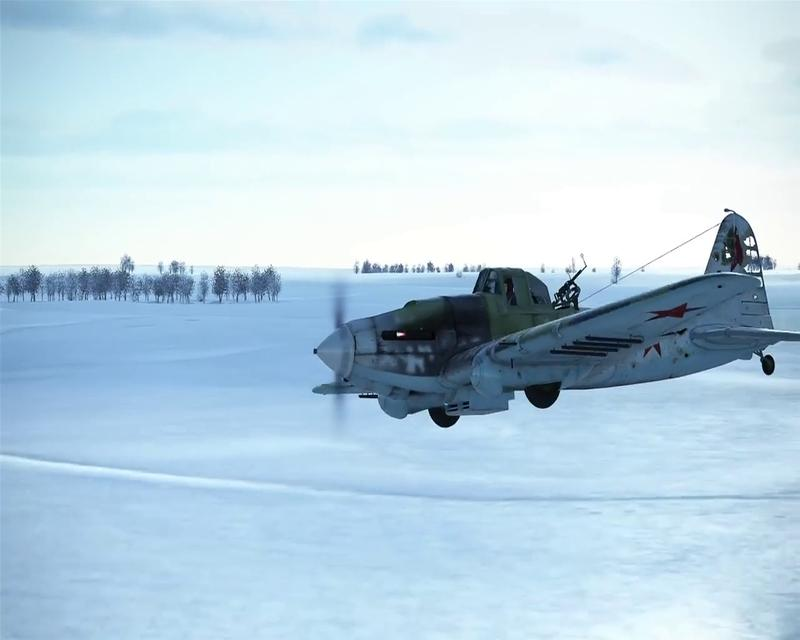UAV: (310, 207, 798, 428)
